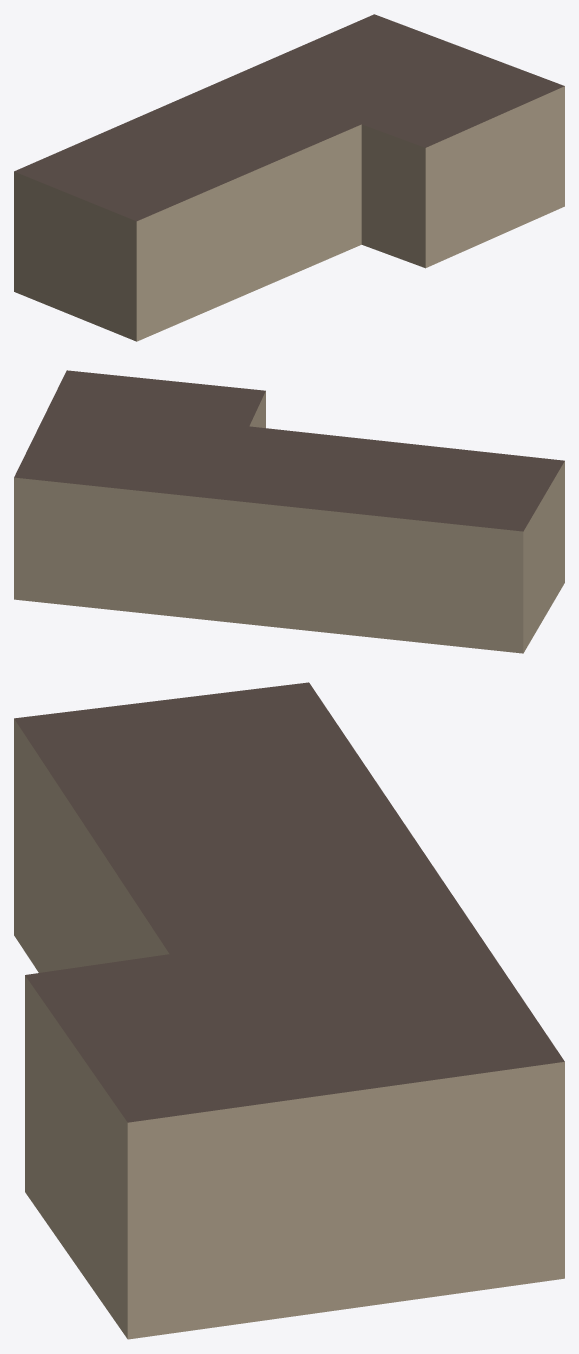
3 views of the same model, one above another, from view 1: azimuth 30°, elevation 25°; view 2: azimuth 150°, elevation 25°; view 3: azimuth 270°, elevation 25° (orthographic). The views are drawn at different scales.
Visible parts, largest first — view 1: HP-w435452344; view 2: HP-w435452344; view 3: HP-w435452344.
Boxes of the visible parts, <box> form: HP-w435452344: <box>14,14,564,341</box>; HP-w435452344: <box>14,370,564,653</box>; HP-w435452344: <box>14,682,564,1339</box>.
Size of the model in its own units: 39.18 by 9 by 20.72.
